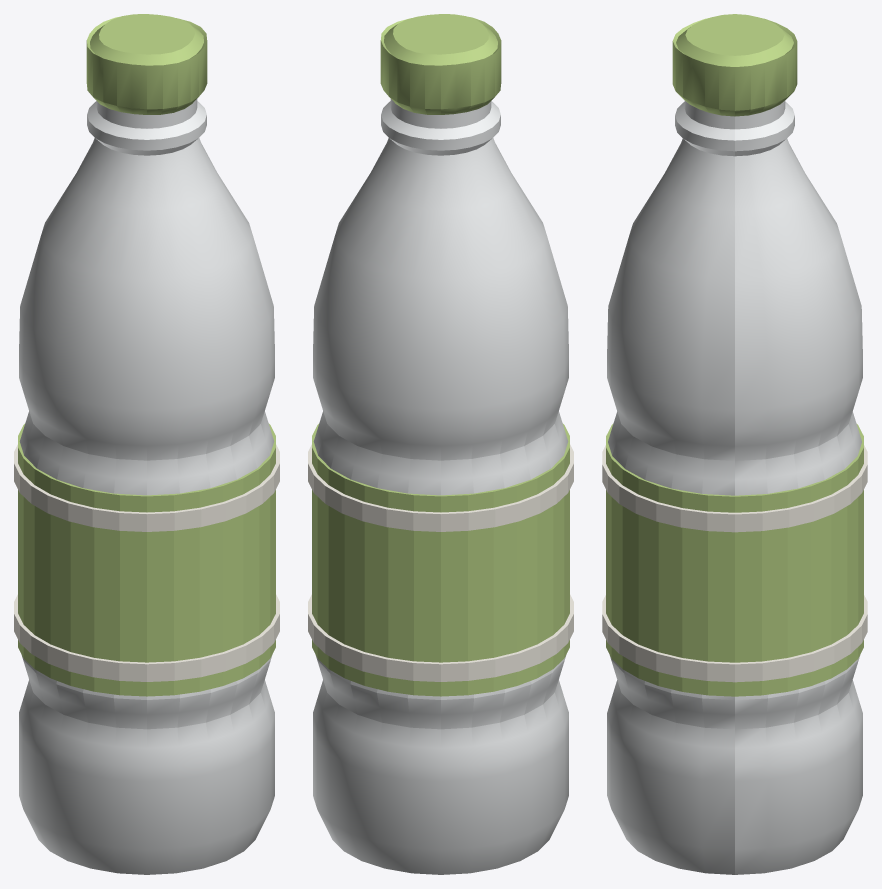
Rendered from fresh-produce-and-groceries-water-bottle-43375605__24444.glb.
3 views of the same model, side by side, from view 1: azimuth 30°, elevation 25°; view 2: azimuth 150°, elevation 25°; view 3: azimuth 270°, elevation 25° (orthographic).
Visible parts, largest first — view 1: water-bottle; view 2: water-bottle; view 3: water-bottle.
Boxes of the visible parts, x1,y1,x2,y2 form: water-bottle: [14, 14, 279, 874]; water-bottle: [308, 14, 573, 874]; water-bottle: [602, 14, 867, 874].
Bounding box in the file's own units: 0.0678 × 0.222 × 0.0674.
